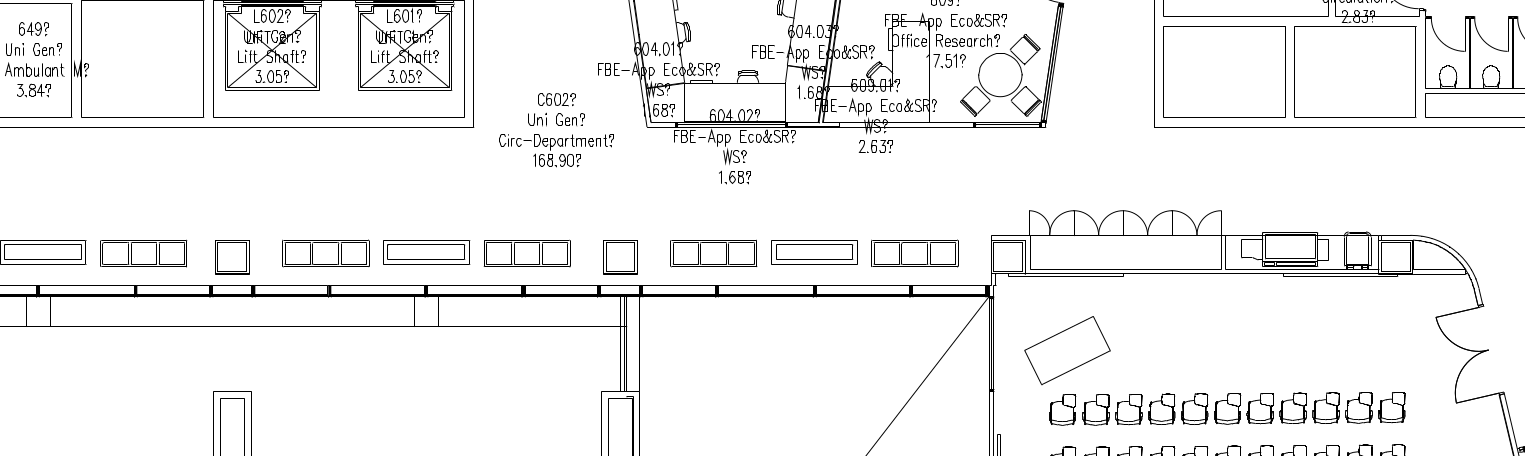door: (1429, 298, 1517, 407)
